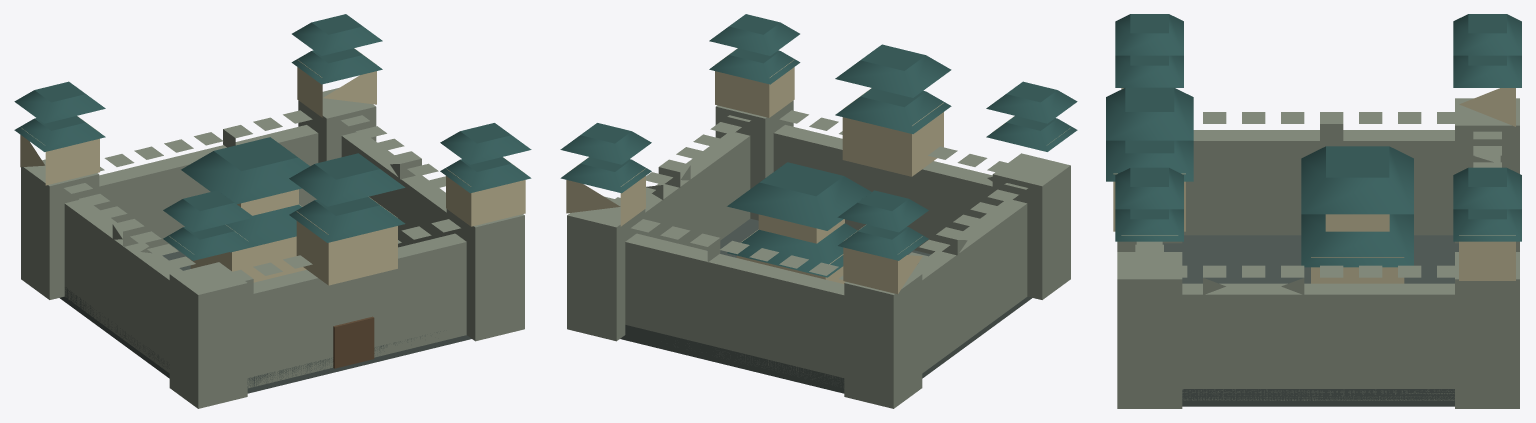
Rendered from stone-fortress.glb.
3 views of the same model, side by side, from view 1: azimuth 30°, elevation 25°; view 2: azimuth 150°, elevation 25°; view 3: azimuth 270°, elevation 25° (orthographic). The views are drawn at different scales.
Visible parts, largest first — view 1: Mesh_1, Mesh_3, Mesh_2, Mesh_0, Mesh_4; view 2: Mesh_1, Mesh_3, Mesh_2, Mesh_0; view 3: Mesh_1, Mesh_3, Mesh_0, Mesh_2.
Part boxes in pixels (x1,y1,x2,y2): Mesh_1: [21, 88, 524, 408]; Mesh_3: [14, 14, 531, 260]; Mesh_2: [20, 48, 525, 285]; Mesh_0: [60, 250, 471, 393]; Mesh_4: [333, 316, 374, 368]; Mesh_1: [567, 100, 1070, 408]; Mesh_3: [560, 14, 1077, 277]; Mesh_2: [566, 48, 1069, 294]; Mesh_0: [620, 218, 1031, 393]; Mesh_1: [1117, 98, 1519, 408]; Mesh_3: [1106, 14, 1521, 267]; Mesh_0: [1162, 235, 1458, 406]; Mesh_2: [1113, 88, 1515, 283].
Bounding box in the file's own units: 34.22 × 19.06 × 32.01.
